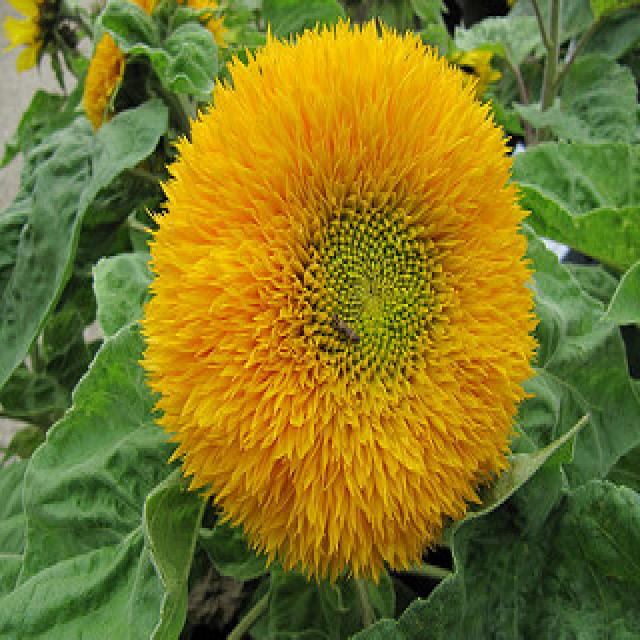sunflower: (133, 16, 543, 589)
